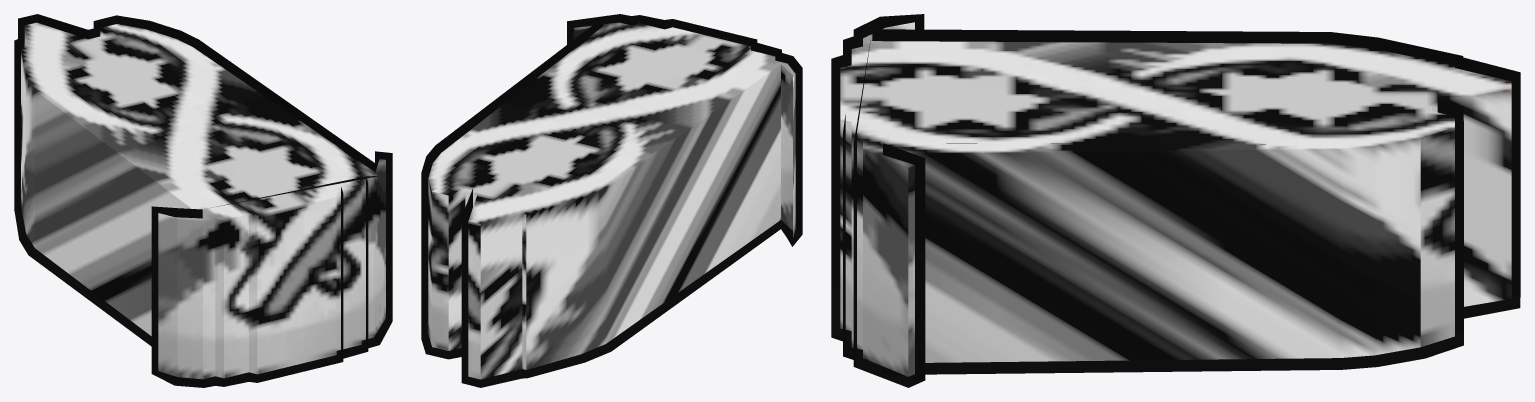
The model's file is Building_SculptureLarge_Things_Building_Art_SculptureLarge_SculptureLargeOrganicA.glb.
3 views of the same model, side by side, from view 1: azimuth 30°, elevation 25°; view 2: azimuth 150°, elevation 25°; view 3: azimuth 270°, elevation 25° (orthographic). The views are drawn at different scales.
Parts seen in each view (by area): view 1: Body, Outline; view 2: Body, Outline; view 3: Body, Outline.
Part boxes in pixels (<box>): Body: <box>21,22,385,379</box>; Outline: <box>14,14,392,387</box>; Body: <box>428,22,795,379</box>; Outline: <box>421,14,802,387</box>; Body: <box>840,22,1511,376</box>; Outline: <box>831,14,1520,387</box>.
Size of the model in its own units: 0.4405 by 0.3136 by 0.8445.
Materials: 2 (1 with a texture image).
